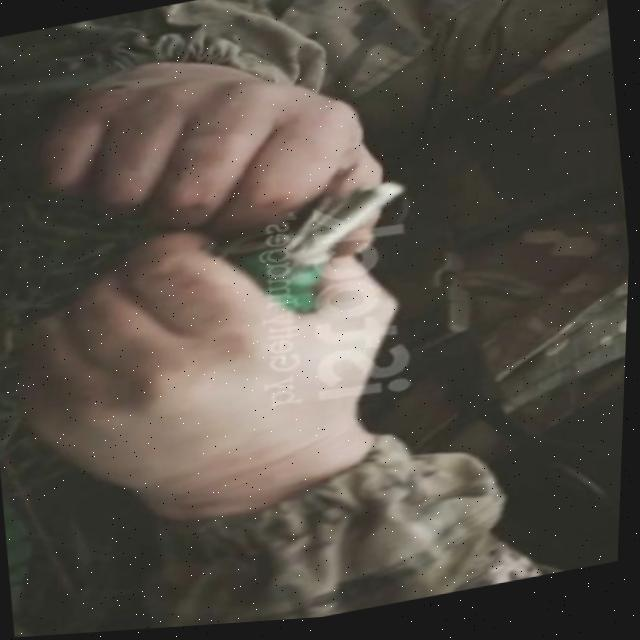grenade: (233, 166, 424, 327)
